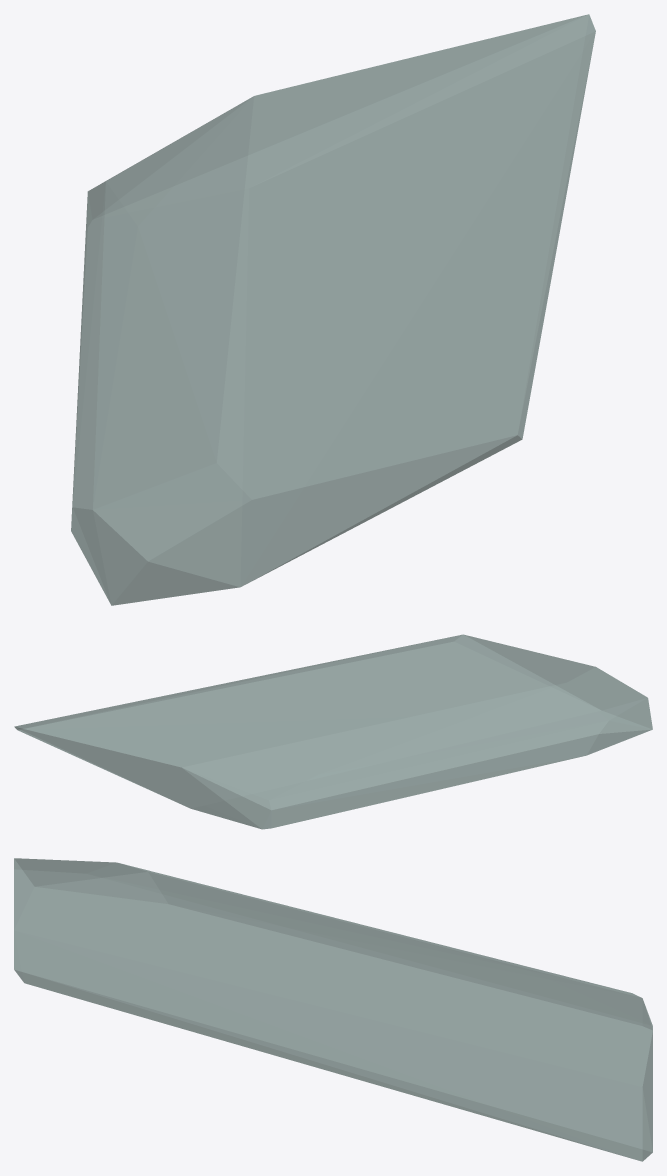
3 renders of one model, top to bottom at view 1: azimuth 30°, elevation 25°; view 2: azimuth 150°, elevation 25°; view 3: azimuth 270°, elevation 25°, orthographic. The views are drawn at different scales.
Visible parts, largest first — view 1: Shape_IndexedFaceSet.010_Shape_IndexedFaceSet.5901; view 2: Shape_IndexedFaceSet.010_Shape_IndexedFaceSet.5901; view 3: Shape_IndexedFaceSet.010_Shape_IndexedFaceSet.5901.
Part boxes in pixels (x1,y1,x2,y2): Shape_IndexedFaceSet.010_Shape_IndexedFaceSet.5901: (71,14,595,605); Shape_IndexedFaceSet.010_Shape_IndexedFaceSet.5901: (14,634,652,829); Shape_IndexedFaceSet.010_Shape_IndexedFaceSet.5901: (14,858,652,1161).
Bounding box in the file's own units: 0.1497 × 0.0138 × 0.1221.
